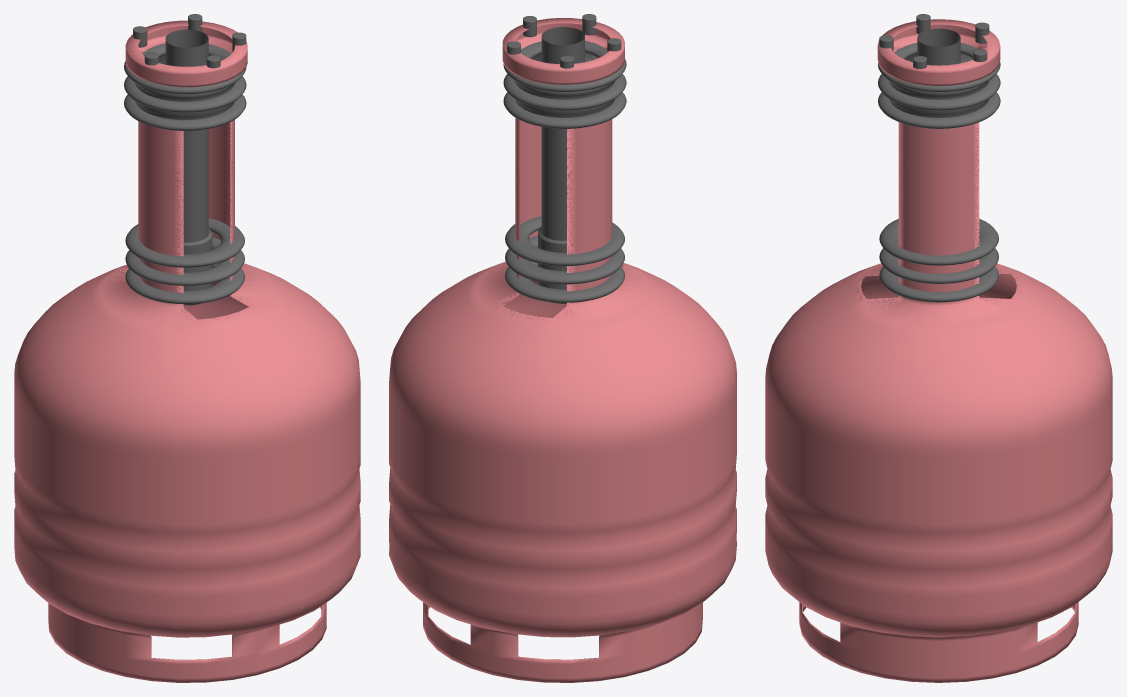
File: GAS TANK 3.fbx
3 renders of one model, left to right at view 1: azimuth 30°, elevation 25°; view 2: azimuth 150°, elevation 25°; view 3: azimuth 270°, elevation 25°, orthographic.
Parts seen in each view (by area): view 1: Cylinder.001; view 2: Cylinder.001; view 3: Cylinder.001.
Boxes of the visible parts, left/top/right/bottom form: Cylinder.001: left=14, top=14, right=360, bottom=682; Cylinder.001: left=389, top=14, right=736, bottom=682; Cylinder.001: left=765, top=14, right=1112, bottom=682.
Size of the model in its own units: 382 by 711 by 382.
